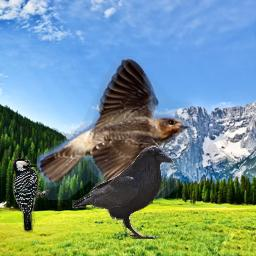Crow: (72, 145, 174, 239)
Swallow: (37, 56, 195, 200)
Woodpecker: (11, 156, 50, 232)
